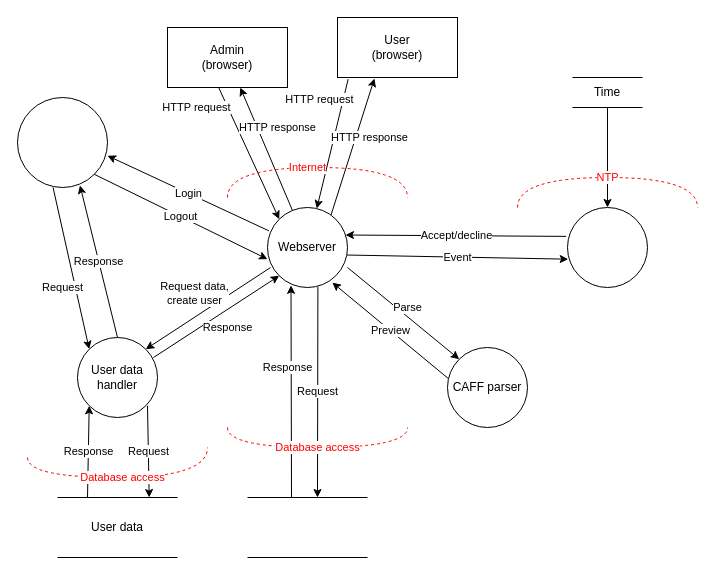
Image size: 715x576. Some labels were removed from this diagram. Here are the shapes that lost their labels. From the top down, the box of each, then its label:
(16, 96, 108, 188): Authentication component
(566, 206, 648, 288): Authorization component
(247, 497, 367, 557): Database
